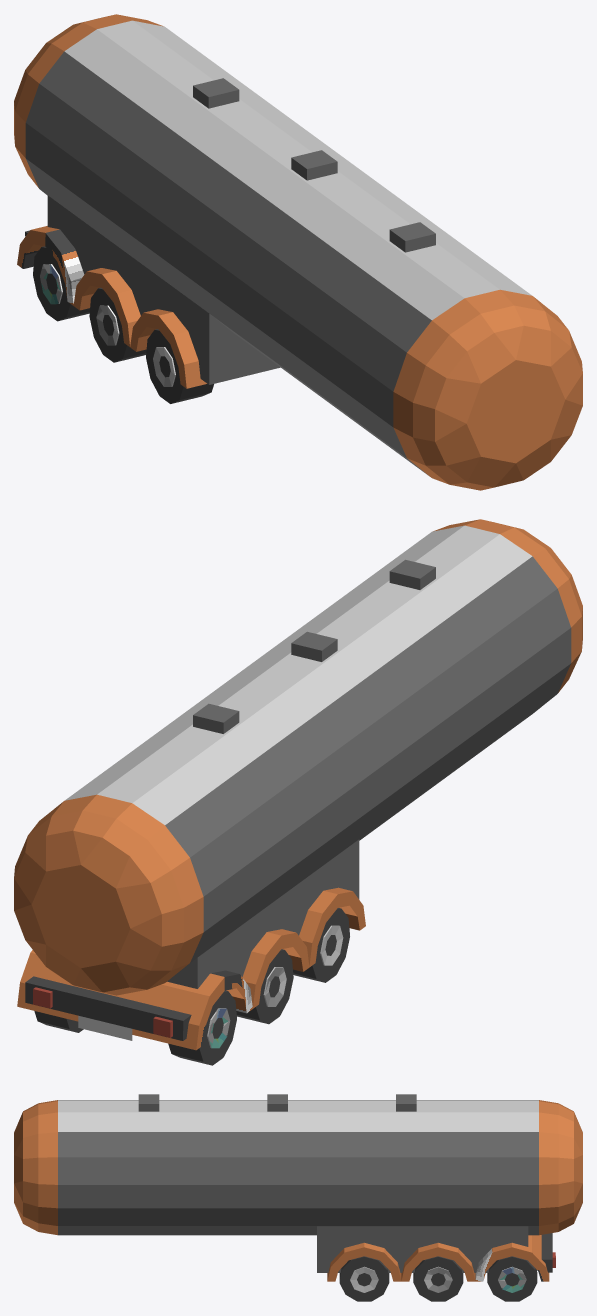
The model's file is transport_truck_014.glb.
The picture shows the model from 3 angles, top to bottom: view 1: azimuth 30°, elevation 25°; view 2: azimuth 150°, elevation 25°; view 3: azimuth 270°, elevation 25°; orthographic projection. The views are drawn at different scales.
Parts seen in each view (by area): view 1: transport_truck_014; view 2: transport_truck_014; view 3: transport_truck_014.
Boxes of the visible parts, x1,y1,x2,y2 form: transport_truck_014: (14, 14, 582, 490); transport_truck_014: (14, 519, 582, 1065); transport_truck_014: (14, 1094, 582, 1301).
Bounding box in the file's own units: 1.77 × 2.54 × 7.45.
Materials: 1 (1 with a texture image).
